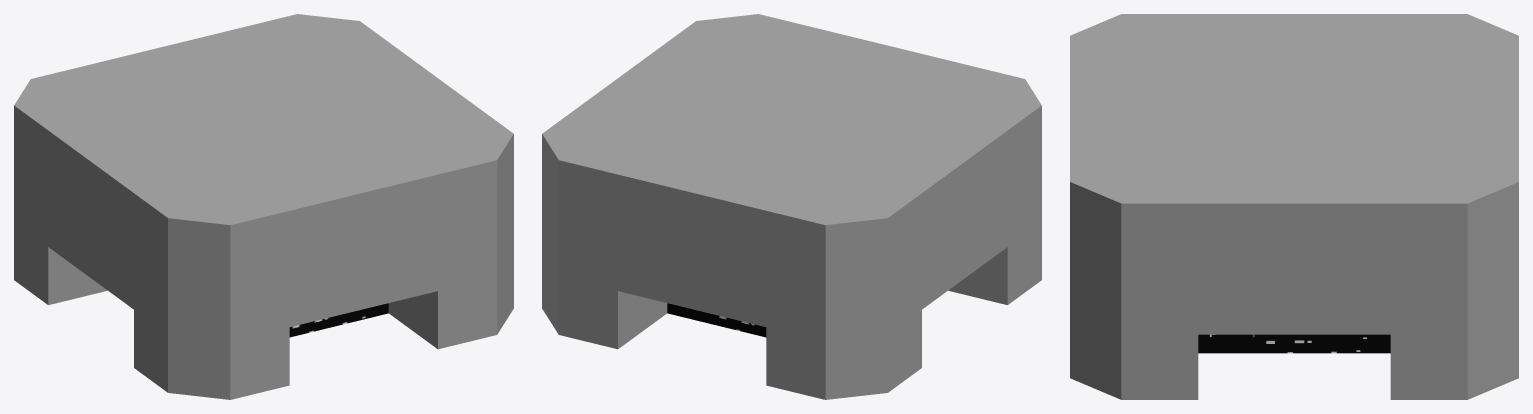
File: Detail07.fbx
3 renders of one model, left to right at view 1: azimuth 30°, elevation 25°; view 2: azimuth 150°, elevation 25°; view 3: azimuth 270°, elevation 25°, orthographic. The views are drawn at different scales.
Visible parts, largest first — view 1: Detail07; view 2: Detail07; view 3: Detail07.
Boxes of the visible parts, <box> form: Detail07: <box>14,14,513,399</box>; Detail07: <box>542,14,1041,399</box>; Detail07: <box>1070,14,1518,399</box>.
Size of the model in its own units: 0.5112 by 0.2469 by 0.5112.
Materials: 2 (1 with a texture image).
